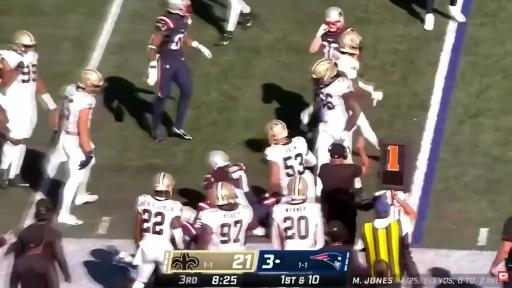Helmet: (311, 58, 338, 83), (78, 69, 103, 94), (214, 182, 237, 206), (13, 30, 37, 52), (339, 30, 361, 54), (266, 120, 287, 145), (287, 176, 308, 201), (153, 173, 174, 196), (324, 7, 344, 31), (208, 151, 229, 169), (168, 0, 191, 15)
Jersey: (264, 137, 313, 195), (272, 202, 323, 250), (199, 205, 253, 250), (0, 50, 38, 111), (136, 195, 182, 242), (318, 77, 353, 125), (155, 11, 188, 58), (63, 88, 96, 132), (321, 28, 351, 57), (334, 53, 359, 79)
Player: (147, 0, 211, 141), (0, 31, 56, 187), (55, 69, 103, 224), (132, 173, 194, 287), (311, 59, 361, 170), (38, 84, 78, 197), (198, 182, 258, 250), (271, 176, 324, 250), (265, 120, 317, 195), (332, 31, 382, 104), (334, 31, 382, 105), (204, 151, 251, 207), (204, 151, 249, 206), (204, 151, 249, 205), (310, 7, 353, 57), (220, 0, 253, 45)
